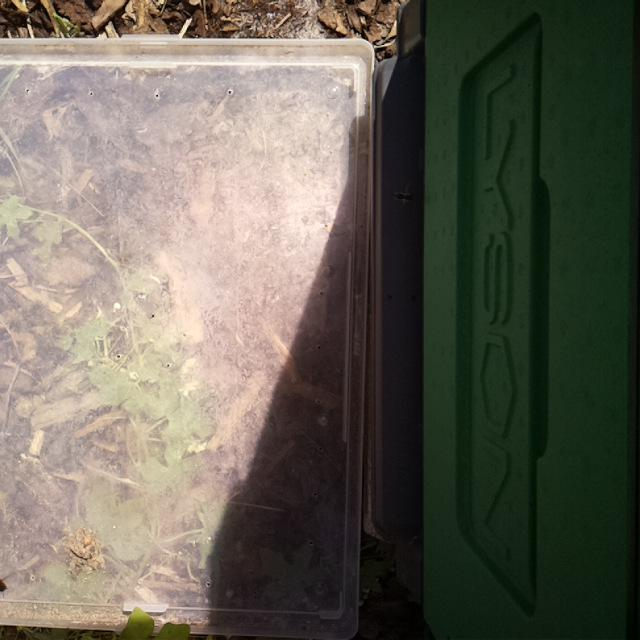worker-bee: (389, 185, 417, 208)
